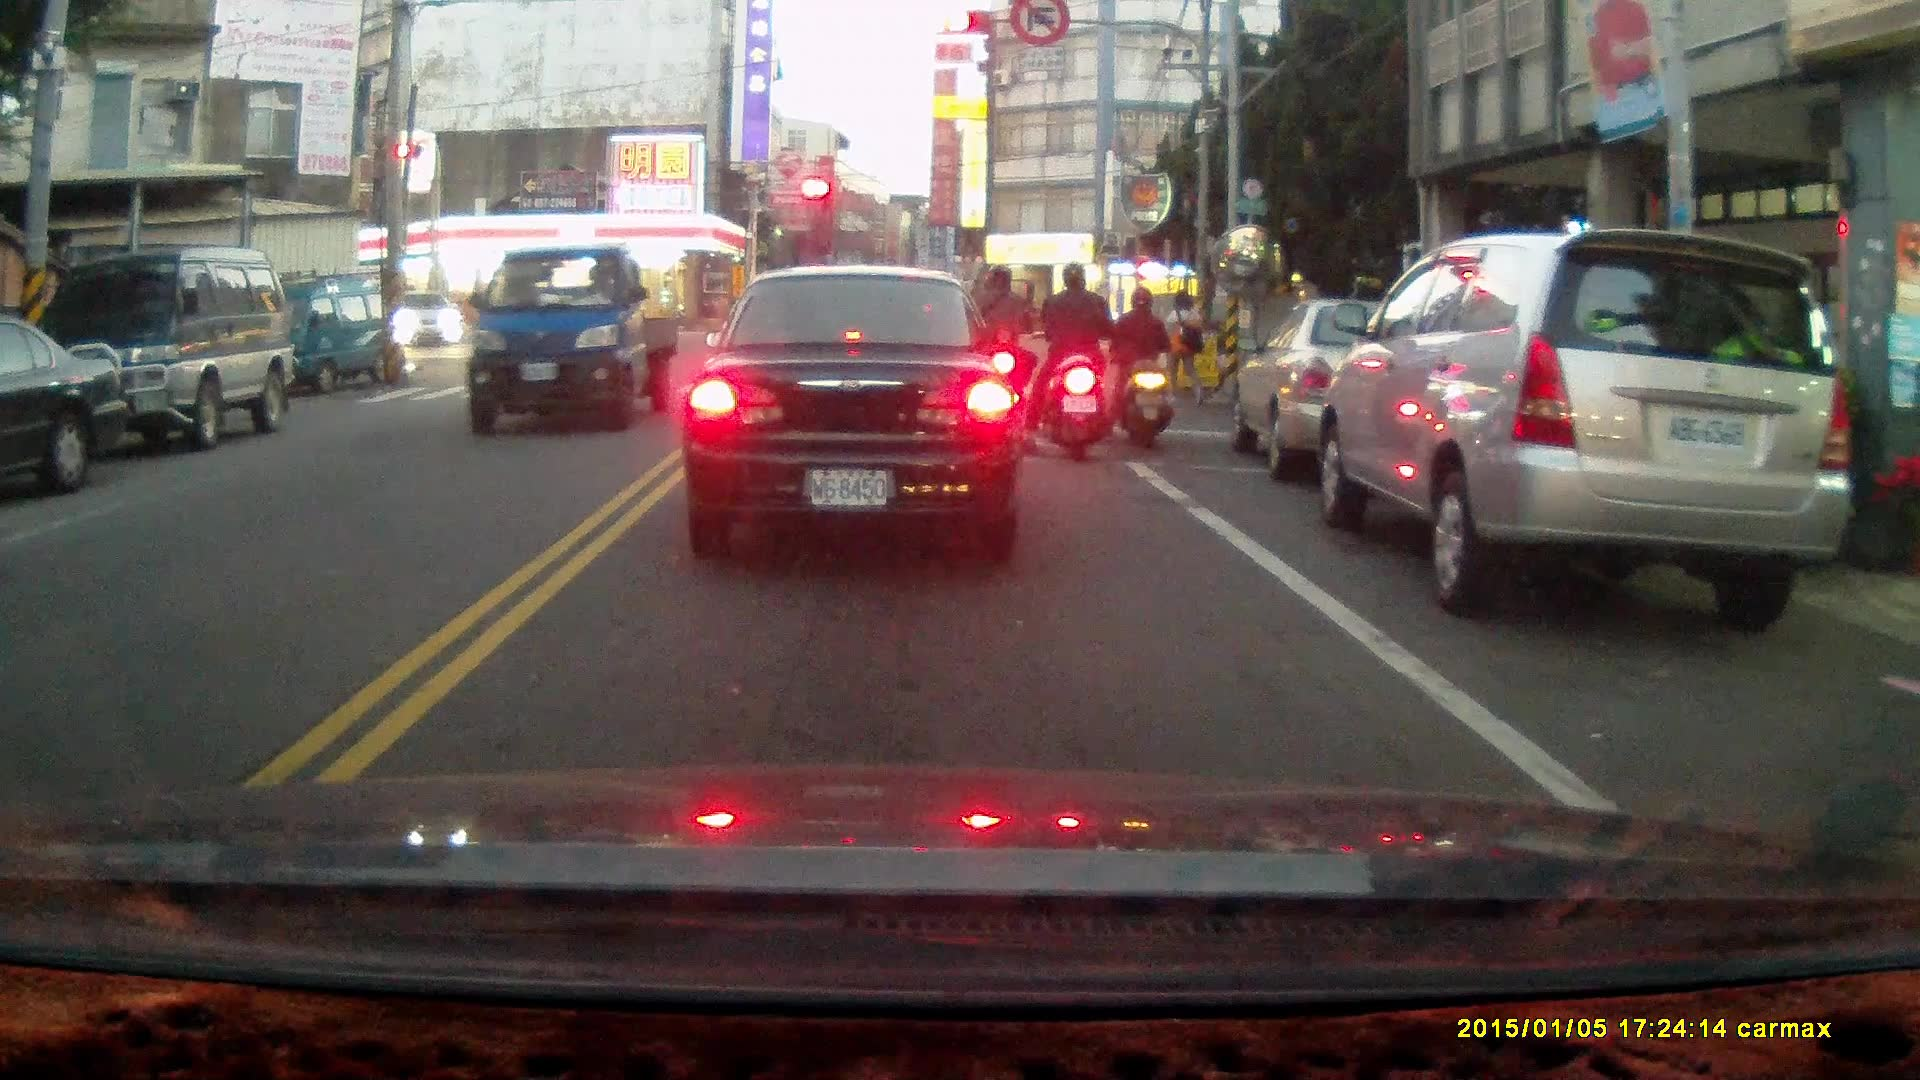pedestrian: (1158, 288, 1209, 409)
rider: (1027, 262, 1122, 461), (964, 263, 1035, 438), (1109, 283, 1175, 449)
vehicle: (1314, 226, 1859, 626), (681, 262, 1025, 556), (26, 240, 290, 455), (1233, 300, 1496, 489), (468, 247, 678, 429), (1, 316, 134, 500), (257, 271, 415, 401)
